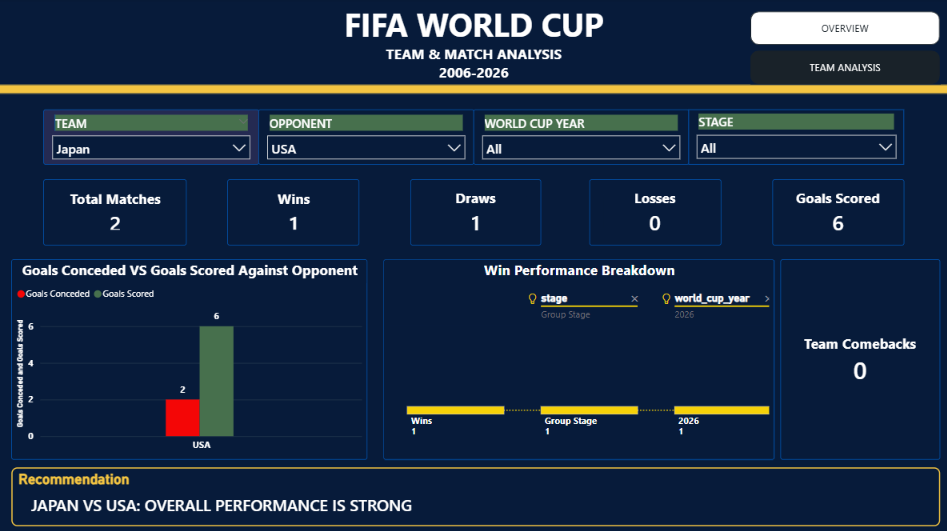

Layout of this report page (visuals, bound fields, positions):
{"tool":"powerbi","page":{"name":"TEAM ANALYSIS","canvas":[1280,720],"ordinal":1},"visuals":[{"type":"textbox","box":[0,0,1280.2,116.3],"z":0},{"type":"shape","box":[0,116.3,1280.2,12.8],"z":1000},{"type":"slicer","fields":{"Values":["Team Opponent.Team"]},"box":[60,150,290,74.4],"z":2000},{"type":"slicer","fields":{"Values":["Team Opponent.Opponent"]},"box":[350,150,290,74],"z":3000},{"type":"slicer","fields":{"Values":["Team Opponent.WorldCupYear"]},"box":[640,150,290,74],"z":4000},{"type":"slicer","fields":{"Values":["football_data.stage"]},"box":[928.9,149.4,290.8,74],"z":5000},{"type":"cardVisual","fields":{"Data":["football_data.Total Matches"]},"box":[60.6,243.7,192.5,88.9],"z":6000},{"type":"cardVisual","fields":{"Data":["football_data.Wins"]},"box":[308.3,243.7,177.7,88.9],"z":7000},{"type":"cardVisual","fields":{"Data":["football_data.Draws"]},"box":[554.7,243.7,176.4,88.9],"z":8000},{"type":"cardVisual","fields":{"Data":["Match Table.Losses"]},"box":[795.6,243.7,177.7,88.9],"z":9000},{"type":"cardVisual","fields":{"Data":["Match Table.Goals Scored"]},"box":[1042,243.7,177.7,88.9],"z":10000},{"type":"clusteredColumnChart","title":"Goals Conceded VS  Goals Scored Against Opponent","fields":{"Y":["Match Table.Goals Conceded","Match Table.Goals Scored"],"Category":["Team Opponent.Opponent"]},"box":[17.4,351.2,479.1,269.8],"z":11000},{"type":"decompositionTreeVisual","title":"Win Performance Breakdown","fields":{"Analyze":["football_data.Wins"],"ExplainBy":["football_data.stage","football_data.world_cup_year","Team Opponent.Opponent"]},"box":[518.3,351.4,526.4,269.2],"z":12000},{"type":"cardVisual","title":"Recommendation","fields":{"Data":["Match Table.Recommendation"]},"box":[17.5,631.4,1250.7,79.4],"z":13000},{"type":"cardVisual","fields":{"Data":["Match Table.Comeback Wins"]},"box":[1052.8,351.4,215.4,269.2],"z":14000},{"type":"pageNavigator","box":[1012.4,17.5,255.8,98.3],"z":15000}]}

Visuals, with their boxes in screenshot pixels (x1, y1, x2, y2), scaled from the page's 1280x720 canvas onto the 947x532 screenshot:
textbox: region(0, 0, 946, 86)
shape: region(0, 86, 946, 95)
slicer - Team Opponent.Team: region(44, 111, 259, 166)
slicer - Team Opponent.Opponent: region(259, 111, 474, 166)
slicer - Team Opponent.WorldCupYear: region(474, 111, 688, 166)
slicer - football_data.stage: region(687, 110, 902, 165)
cardVisual - football_data.Total Matches: region(45, 180, 187, 246)
cardVisual - football_data.Wins: region(228, 180, 360, 246)
cardVisual - football_data.Draws: region(410, 180, 541, 246)
cardVisual - Match Table.Losses: region(589, 180, 720, 246)
cardVisual - Match Table.Goals Scored: region(771, 180, 902, 246)
"Goals Conceded VS  Goals Scored Against Opponent" clusteredColumnChart: region(13, 259, 367, 459)
"Win Performance Breakdown" decompositionTreeVisual: region(383, 260, 773, 459)
"Recommendation" cardVisual: region(13, 467, 938, 525)
cardVisual - Match Table.Comeback Wins: region(779, 260, 938, 459)
pageNavigator: region(749, 13, 938, 86)
